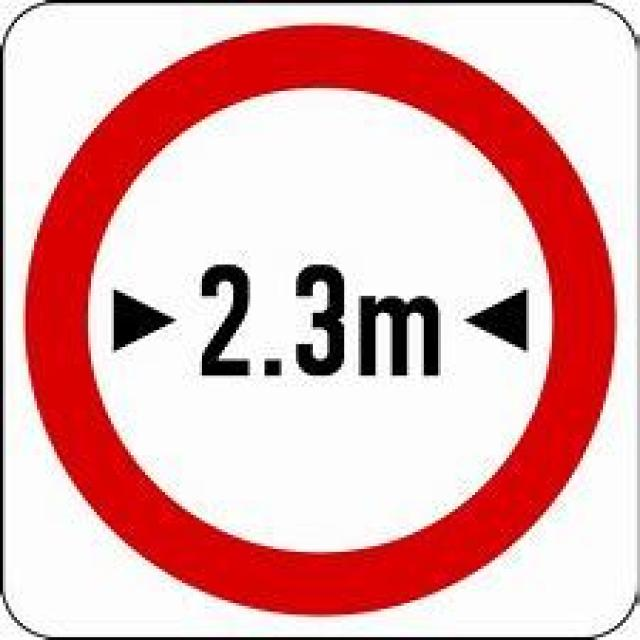WIDTH_LIMIT: (18, 22, 624, 621)
